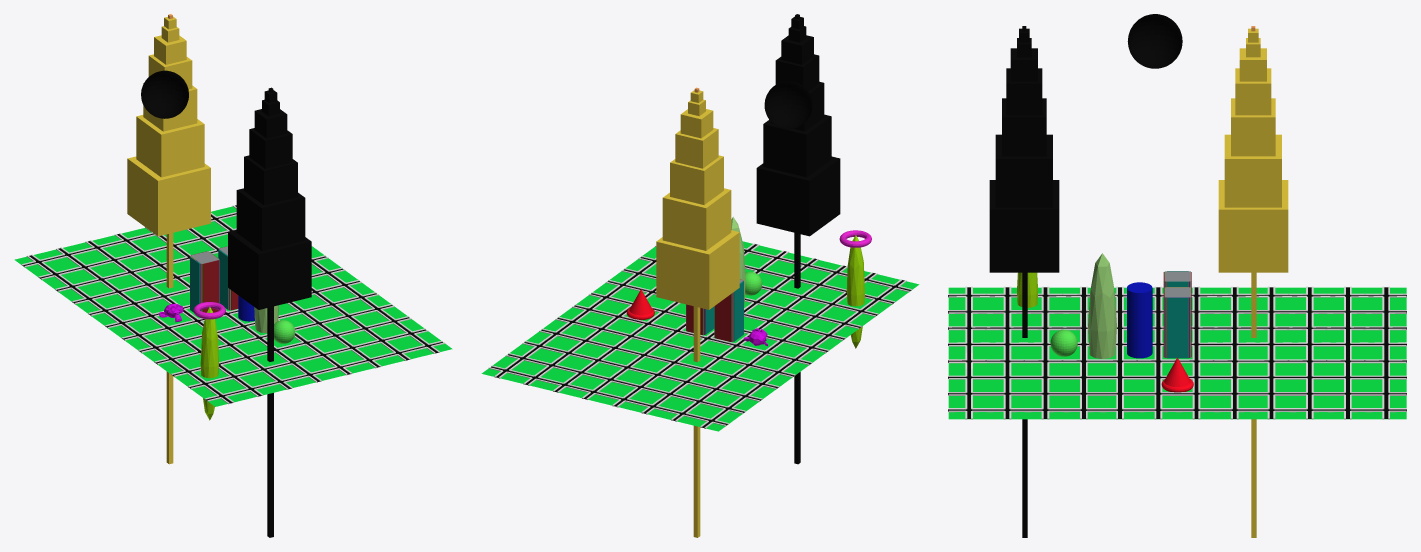
The model's file is TianCity.glb.
The picture shows the model from 3 angles, left to right: view 1: azimuth 30°, elevation 25°; view 2: azimuth 150°, elevation 25°; view 3: azimuth 270°, elevation 25°; orthographic projection. The views are drawn at different scales.
Visible parts, largest first — view 1: Plane.021, Cube.008, Donut Shop, Cube.001, Cube.003; view 2: Plane.021, Cube.008, Donut Shop, Cube.001, Cube.003, Torus.001; view 3: Plane.021, Cube.008, Icosphere, Cube.003, Cylinder, Torus.001, Sphere, Donut Shop.
Part boxes in pixels (box(x1,y1,x2,y2)): Plane.021: box(14, 205, 452, 406); Cube.008: box(127, 14, 311, 537); Donut Shop: box(193, 302, 225, 420); Cube.001: box(190, 251, 219, 312); Cube.003: box(218, 246, 238, 310); Plane.021: box(481, 241, 919, 431); Cube.008: box(656, 14, 840, 537); Donut Shop: box(839, 230, 871, 348); Cube.001: box(714, 279, 743, 341); Cube.003: box(686, 304, 714, 335); Torus.001: box(626, 289, 654, 320); Plane.021: box(948, 286, 1406, 419); Cube.008: box(989, 14, 1288, 537); Icosphere: box(1088, 253, 1116, 358); Cube.003: box(1163, 287, 1191, 358); Cylinder: box(1127, 282, 1152, 358); Torus.001: box(1161, 357, 1193, 392); Sphere: box(1050, 329, 1077, 356); Donut Shop: box(1017, 272, 1038, 307).
Size of the model in its own units: 240 by 434 by 354.
